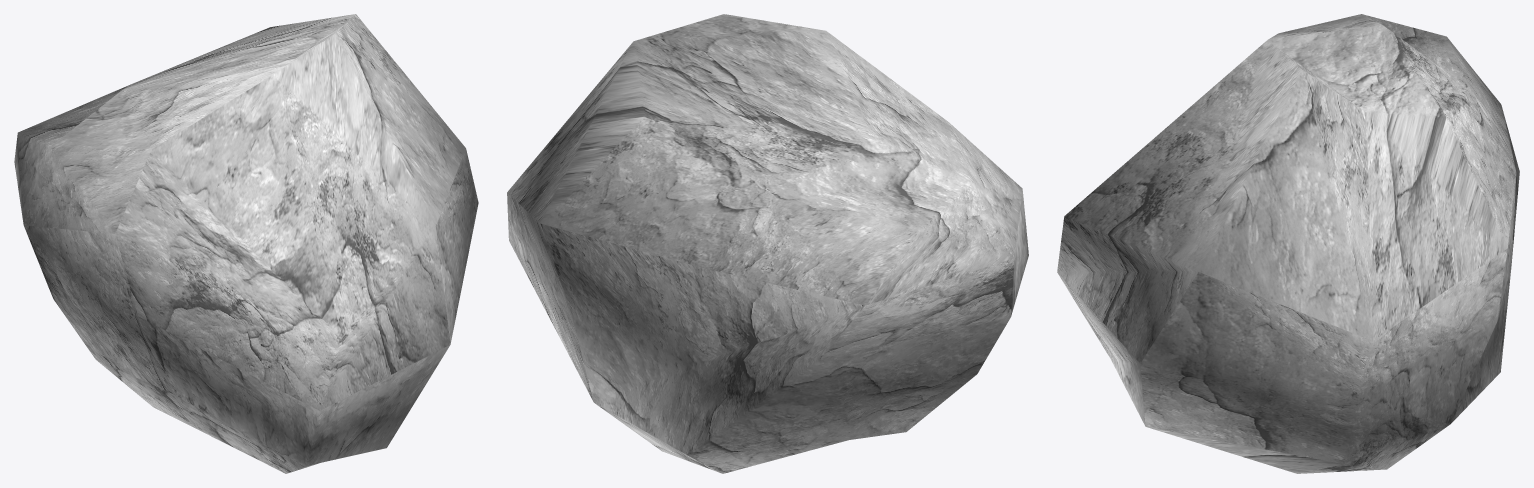
File: Rock_03.fbx
3 views of the same model, side by side, from view 1: azimuth 30°, elevation 25°; view 2: azimuth 150°, elevation 25°; view 3: azimuth 270°, elevation 25° (orthographic). The views are drawn at different scales.
Visible parts, largest first — view 1: Rock_03; view 2: Rock_03; view 3: Rock_03.
Boxes of the visible parts, x1,y1,x2,y2 form: Rock_03: (14,14,478,473); Rock_03: (507,14,1028,473); Rock_03: (1057,14,1519,473).
Bounding box in the file's own units: 2178 × 1729 × 1822.
